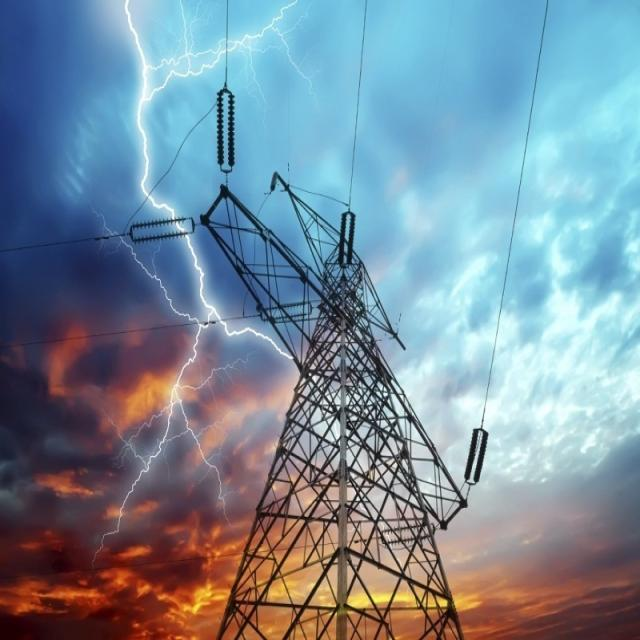non-critical vegetation: (202, 144, 486, 631)
